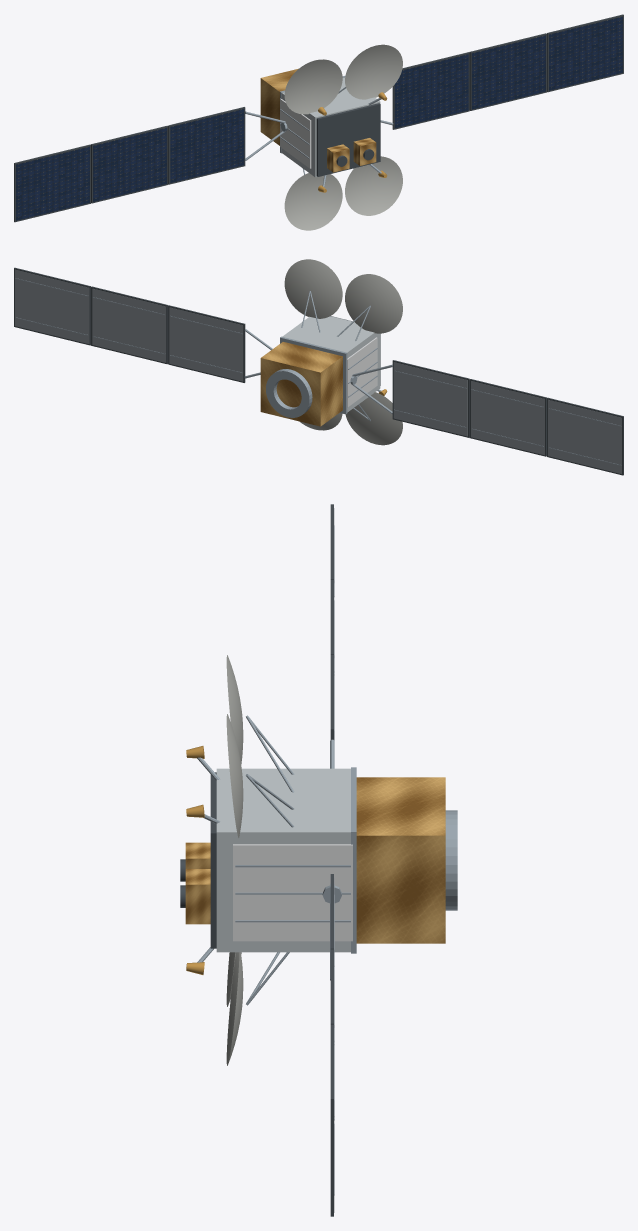
The model's file is ref-hs-601-22087.glb.
3 renders of one model, top to bottom at view 1: azimuth 30°, elevation 25°; view 2: azimuth 150°, elevation 25°; view 3: azimuth 270°, elevation 25°, orthographic. The views are drawn at different scales.
Visible parts, largest first — view 1: Solar cell panel (×6), Communications reflector (×4), Solar panel frame (×6), Earth-facing deck, Radiator face, Service module, Payload module, Communications feed assembly (×2); view 2: Rear array substrate (×6), Communications reflector (×3), Service module, Solar panel frame (×6), Payload module, Radiator face, Launch adapter ring, Module interface; view 3: Service module, Payload module, Radiator face, Communications reflector (×2), Communications feed assembly, Launch adapter ring, Earth-facing deck.
Boxes of the visible parts, box(x1,y1,x2,y2) form: Solar cell panel (×6): box(16, 16, 622, 220); Communications reflector (×4): box(284, 44, 402, 230); Solar panel frame (×6): box(14, 14, 623, 222); Earth-facing deck: box(316, 103, 380, 176); Radiator face: box(280, 98, 311, 168); Service module: box(260, 68, 298, 145); Payload module: box(281, 77, 380, 177); Communications feed assembly (×2): box(327, 138, 376, 172); Rear array substrate (×6): box(15, 269, 621, 473); Communications reflector (×3): box(284, 259, 402, 445); Service module: box(260, 342, 342, 426); Solar panel frame (×6): box(14, 267, 623, 475); Payload module: box(282, 316, 380, 412); Radiator face: box(347, 337, 377, 407); Launch adapter ring: box(266, 369, 312, 417); Module interface: box(280, 336, 347, 414); Service module: box(356, 777, 445, 943); Payload module: box(216, 768, 350, 952); Radiator face: box(233, 844, 352, 941); Communications reflector (×2): box(226, 714, 243, 1065); Communications feed assembly: box(185, 869, 210, 924); Launch adapter ring: box(445, 810, 457, 910); Earth-facing deck: box(210, 772, 216, 948).
Bounding box in the file's own units: 26.17 × 6.96 × 5.16.
9 materials, 2 textured.
